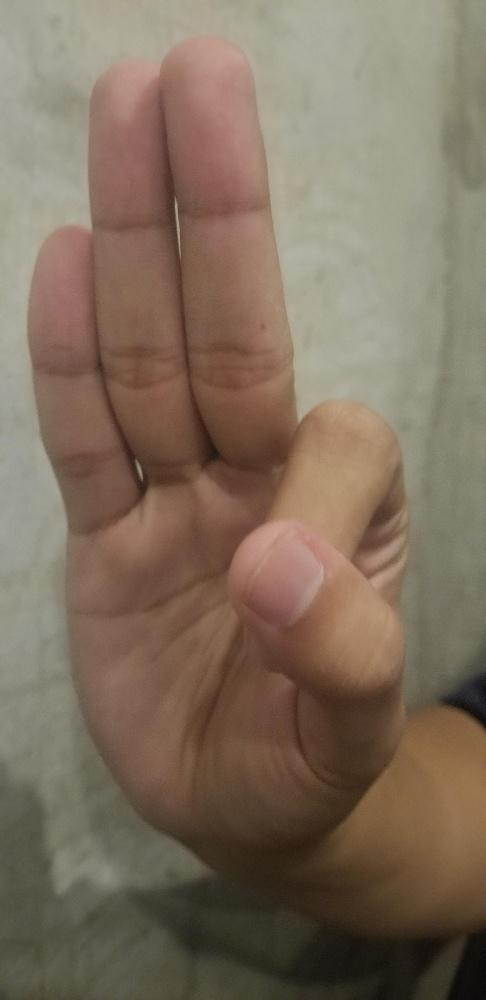f: (26, 37, 407, 844)
